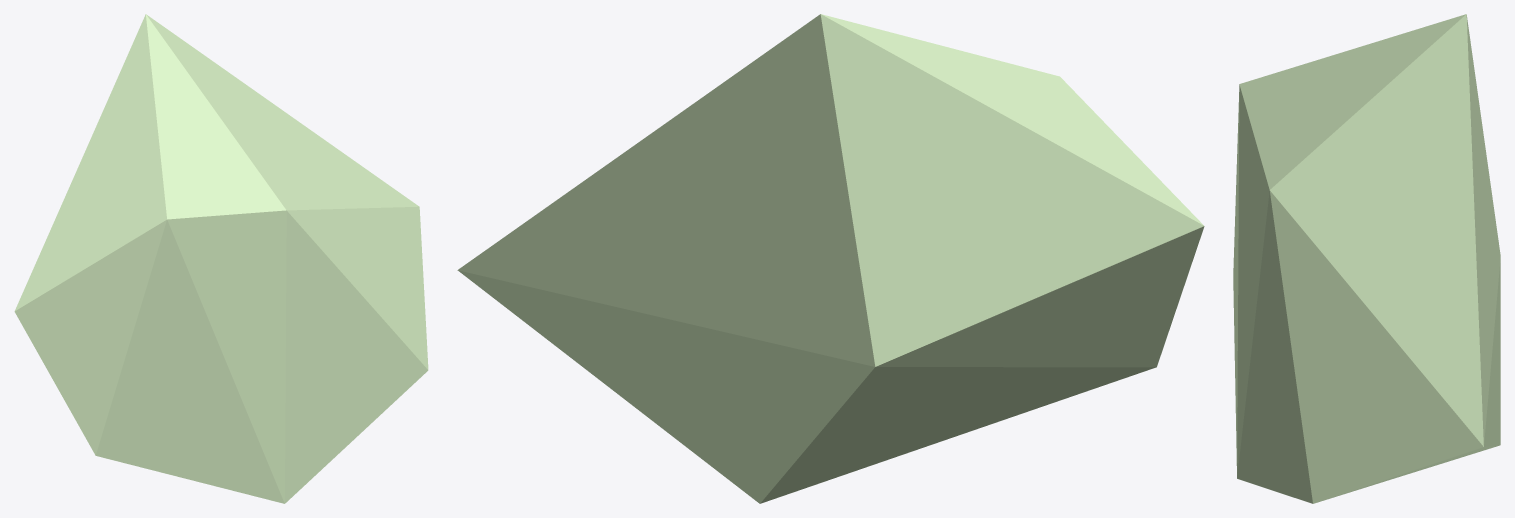
Rendered from iiwa_robot_base_coll_15.obj.
The picture shows the model from 3 angles, left to right: view 1: azimuth 30°, elevation 25°; view 2: azimuth 150°, elevation 25°; view 3: azimuth 270°, elevation 25°; orthographic projection. The views are drawn at different scales.
Parts seen in each view (by area): view 1: node; view 2: node; view 3: node.
Part boxes in pixels (<box>): node: <box>14,14,428,503</box>; node: <box>457,14,1204,503</box>; node: <box>1233,14,1500,503</box>.
Size of the model in its own units: 0.0317 by 0.0253 by 0.0137.
